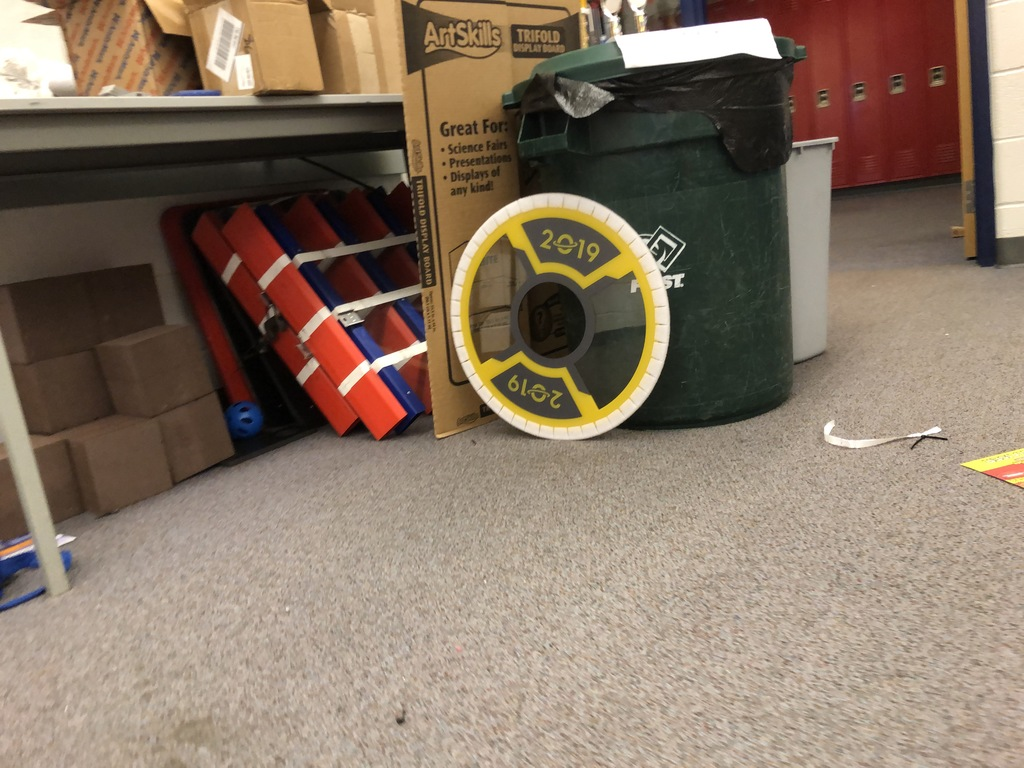hatch_panel: (434, 181, 681, 466)
